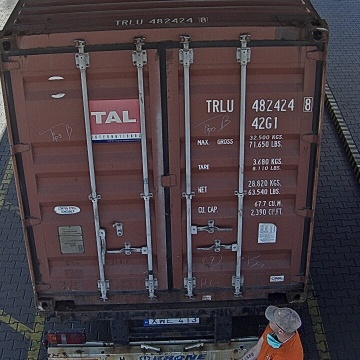serial_id: (205, 98, 311, 112)
